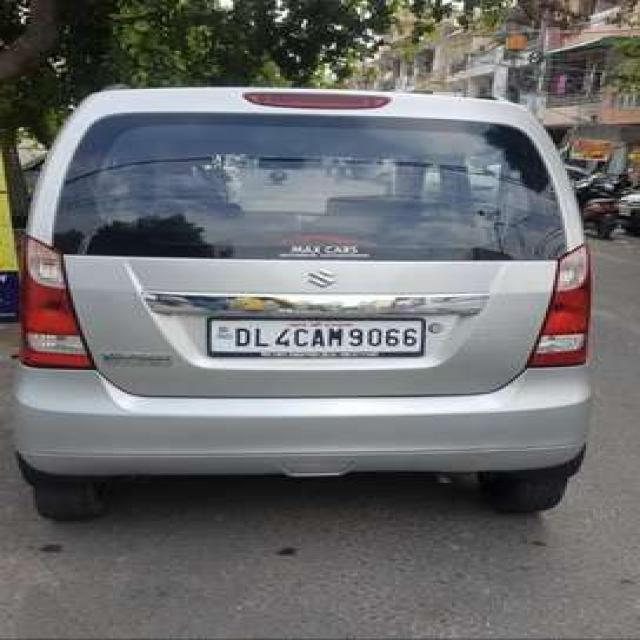Plate: (211, 319, 418, 352)
